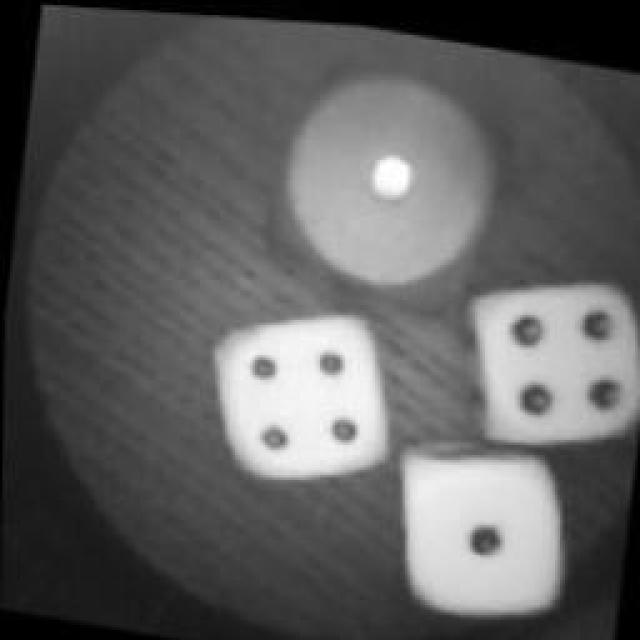dice_1: (255, 38, 520, 310), (384, 421, 581, 624)
dice_4: (202, 285, 402, 493), (447, 255, 640, 470)
